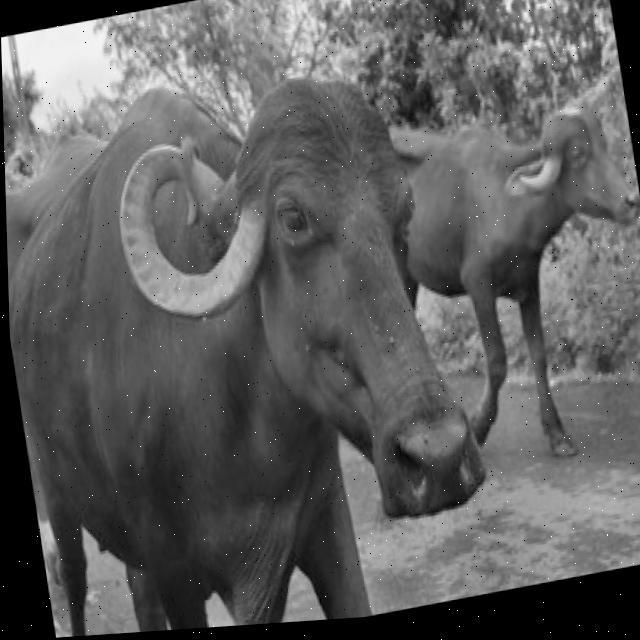Buffalo: (2, 25, 509, 640)
